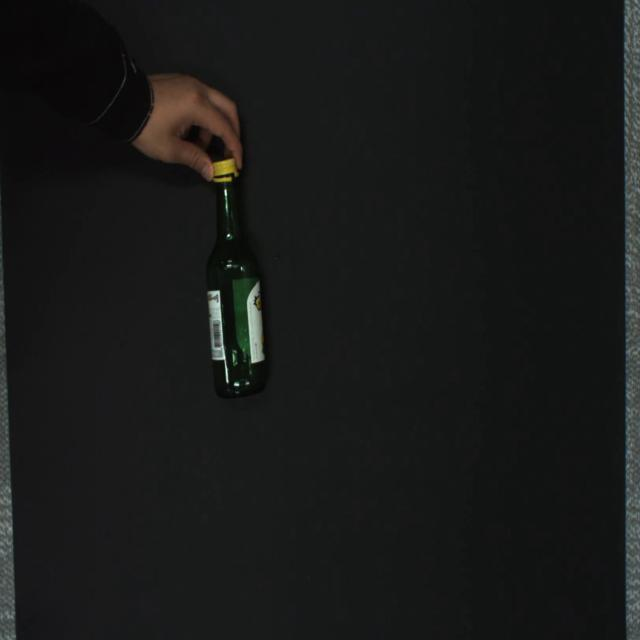soju-bottle: (206, 157, 266, 397)
